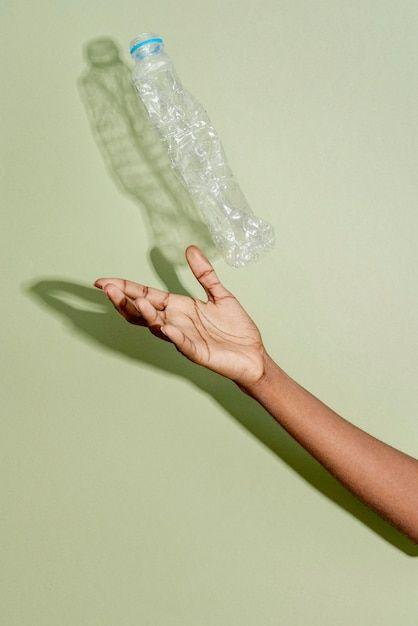PETE: (128, 30, 278, 266)
